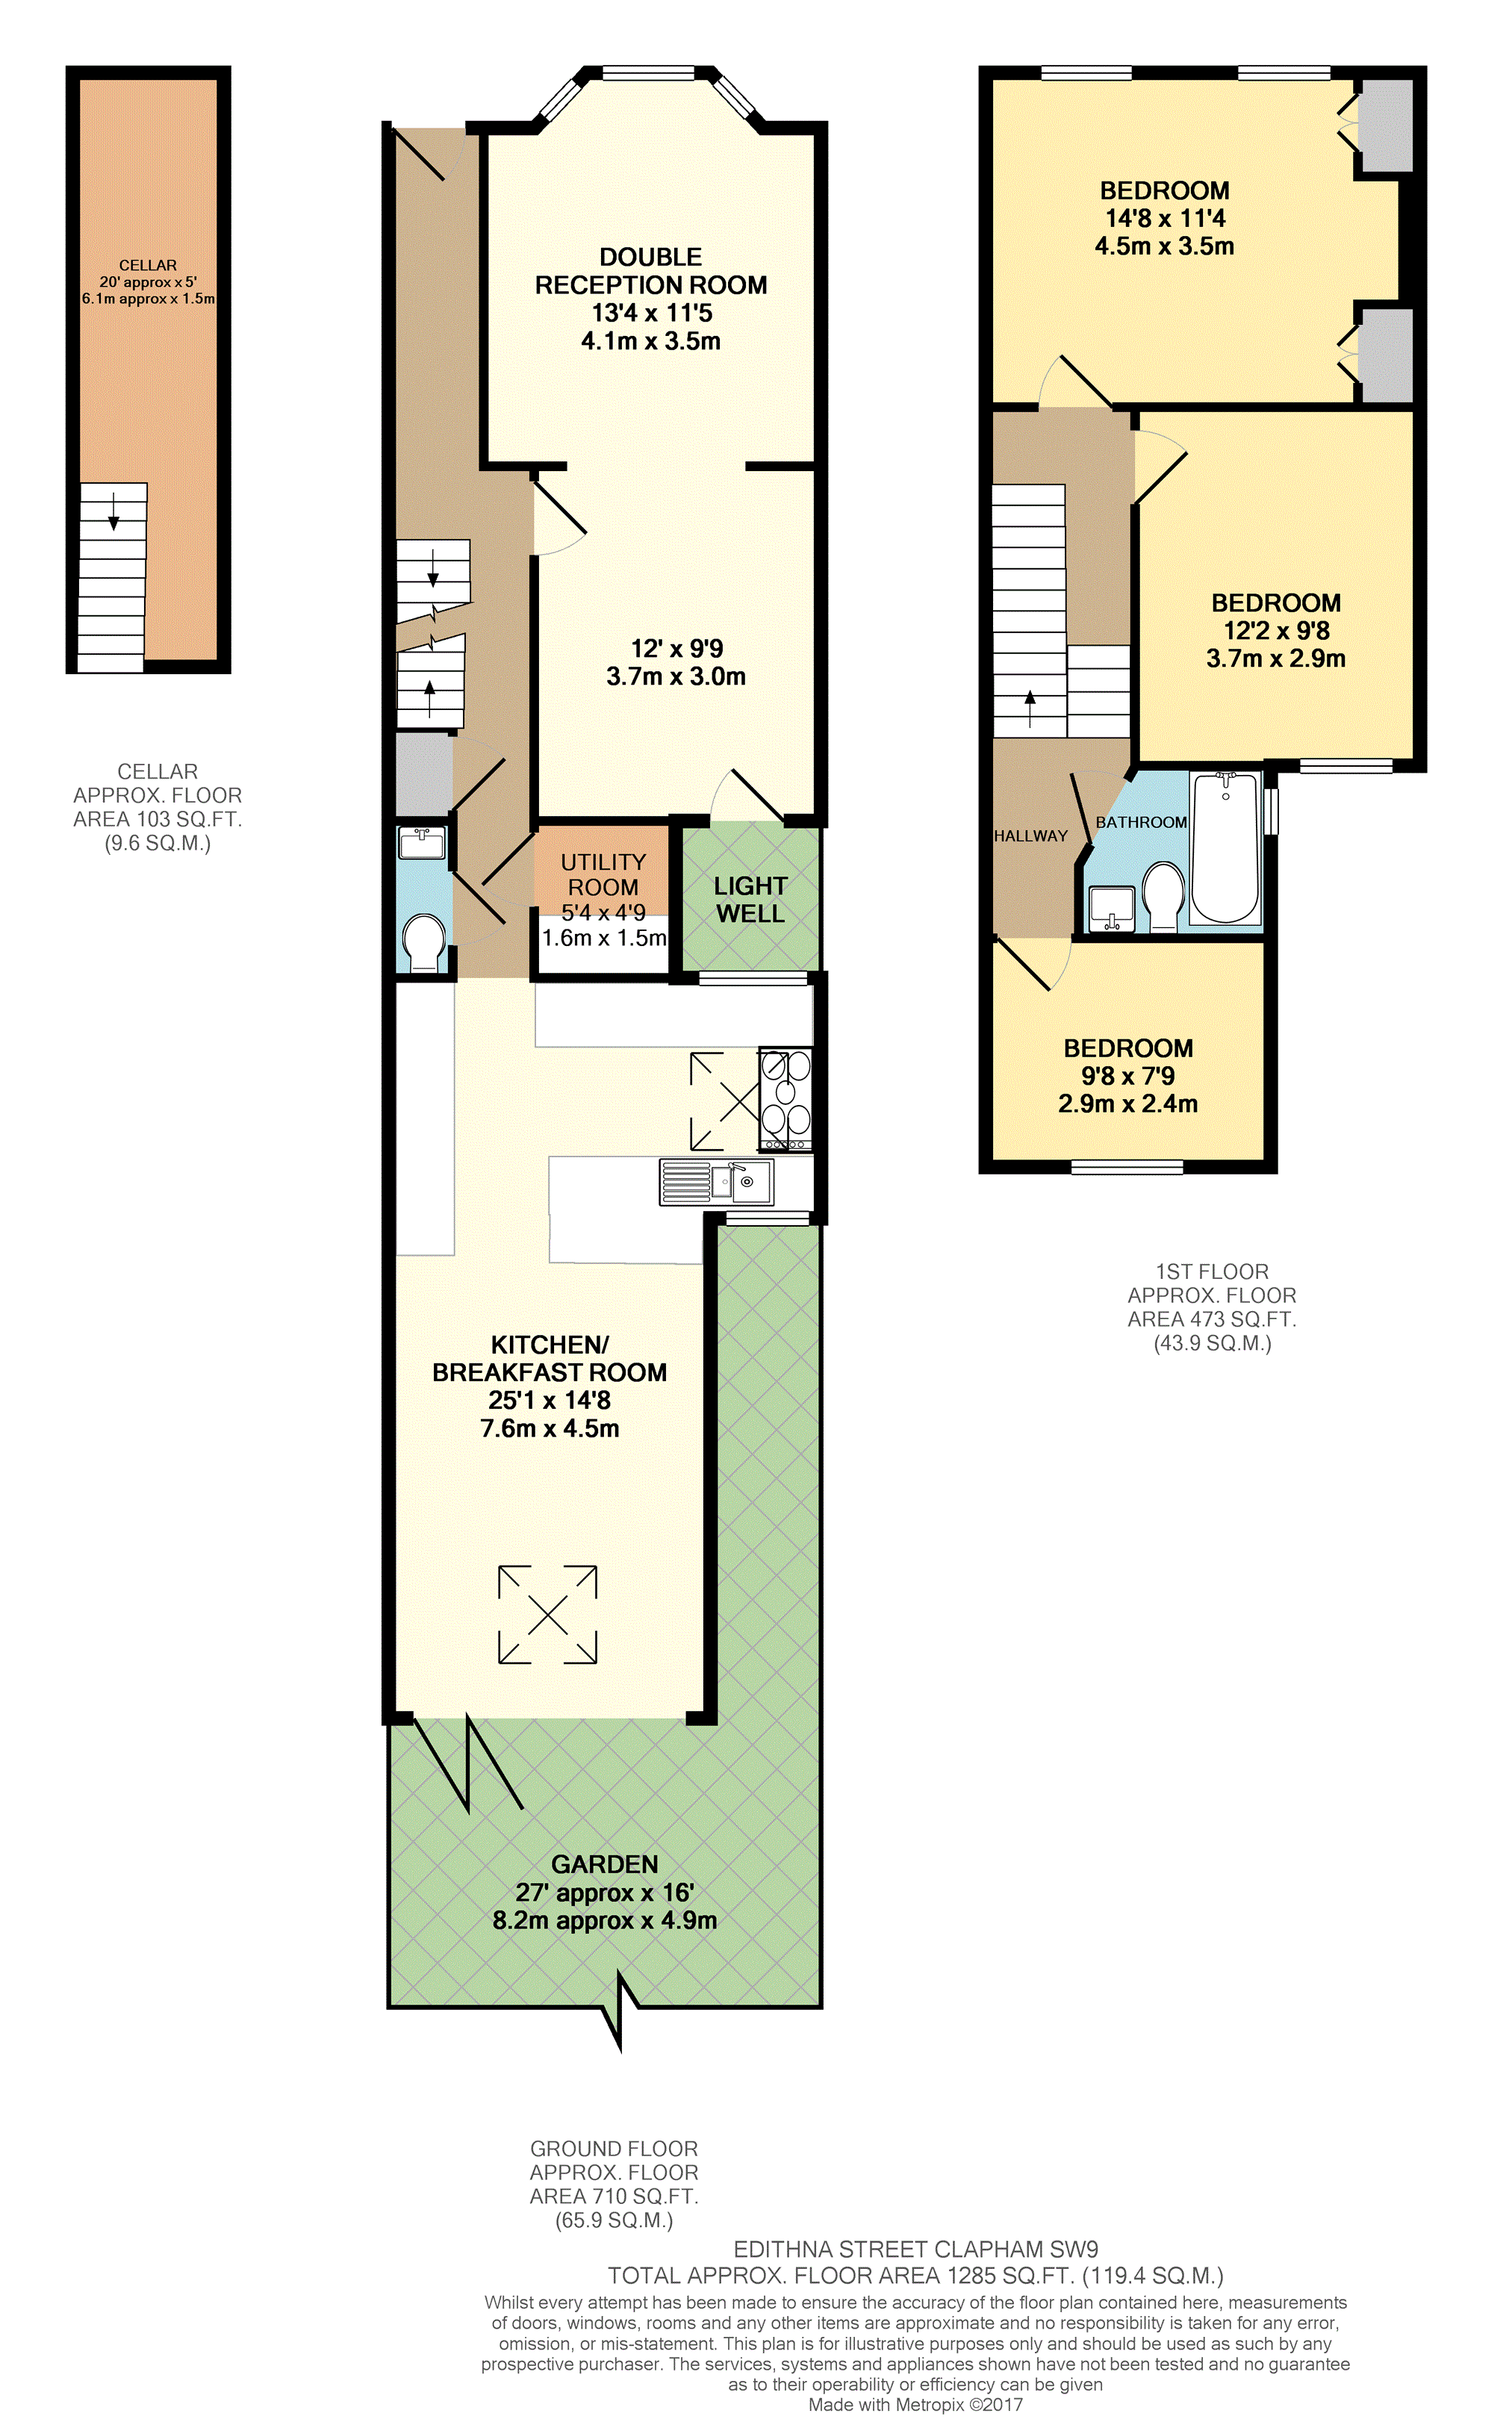door: (1038, 350, 1115, 413), (1129, 428, 1188, 505), (707, 766, 780, 824), (996, 933, 1070, 991), (531, 486, 589, 555), (1327, 91, 1366, 155), (1327, 320, 1366, 383)
